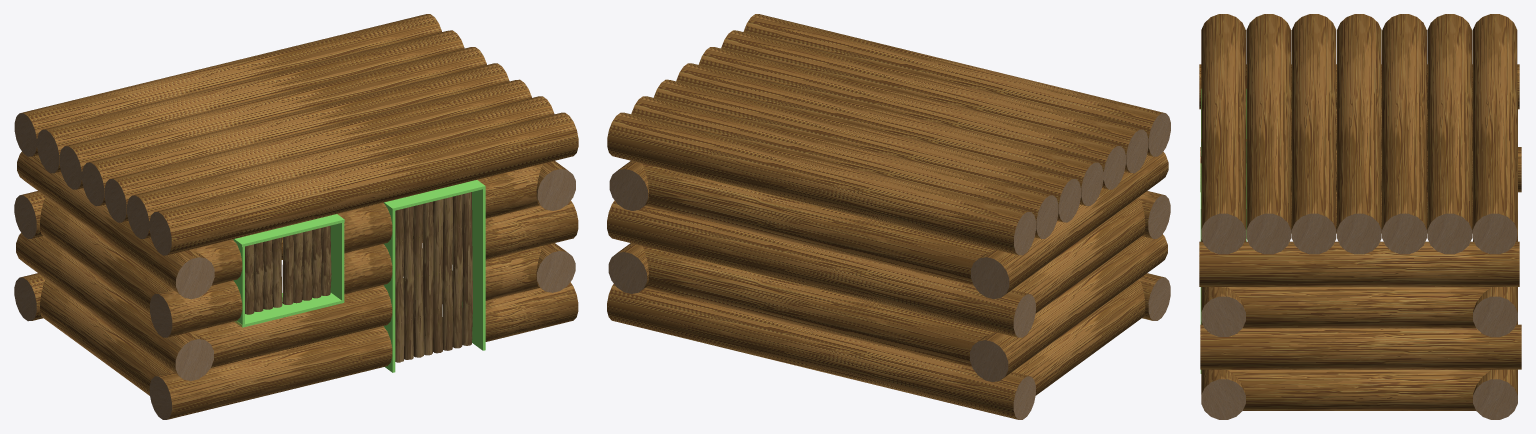
Rendered from SmallWoodShelter.fbx.
3 renders of one model, left to right at view 1: azimuth 30°, elevation 25°; view 2: azimuth 150°, elevation 25°; view 3: azimuth 270°, elevation 25°, orthographic.
Visible parts, largest first — view 1: ShelterModel, DoorModel, RightWindowModel, LeftWindowModel; view 2: ShelterModel; view 3: ShelterModel.
Part boxes in pixels (left/top/right/bottom): ShelterModel: left=14, top=14, right=578, bottom=419; DoorModel: left=395, top=192, right=472, bottom=362; RightWindowModel: left=282, top=226, right=331, bottom=304; LeftWindowModel: left=245, top=237, right=282, bottom=314; ShelterModel: left=607, top=14, right=1170, bottom=419; ShelterModel: left=1199, top=14, right=1521, bottom=419.
Size of the model in its own units: 2588 by 1246 by 1766.
